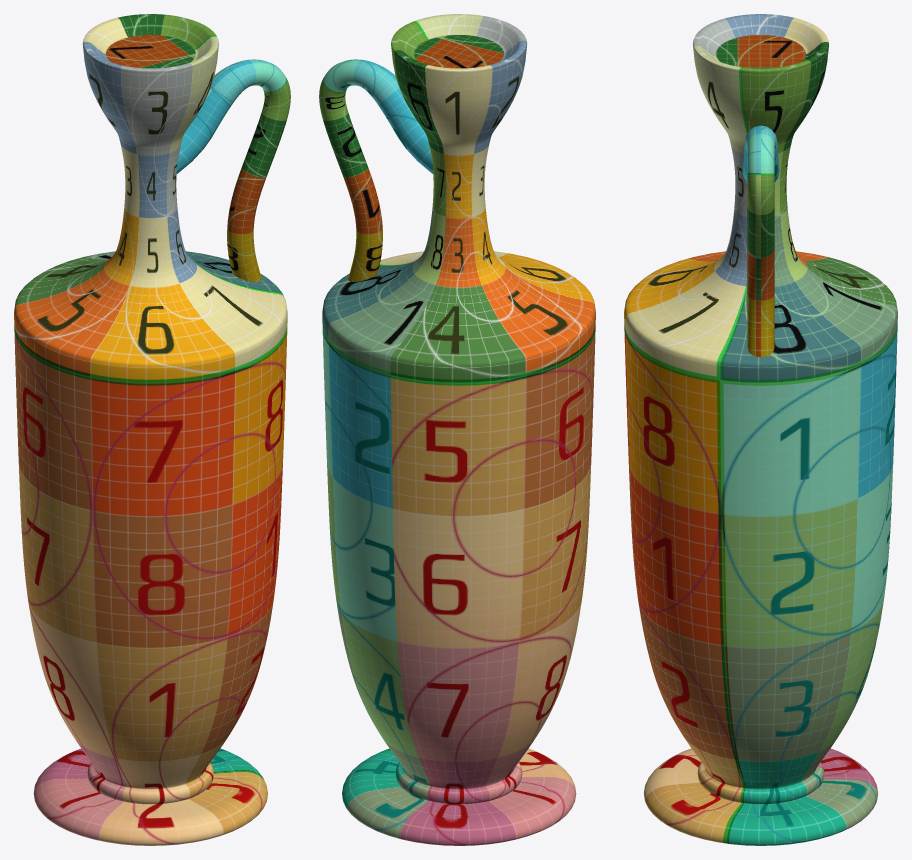
File: Lykithos_A.fbx
3 views of the same model, side by side, from view 1: azimuth 30°, elevation 25°; view 2: azimuth 150°, elevation 25°; view 3: azimuth 270°, elevation 25° (orthographic).
Parts seen in each view (by area): view 1: lykithosA_lykithos_A; view 2: lykithosA_lykithos_A; view 3: lykithosA_lykithos_A.
Boxes of the visible parts, x1=… form: lykithosA_lykithos_A: x1=14, y1=14, x2=290, y2=845; lykithosA_lykithos_A: x1=319, y1=14, x2=595, y2=845; lykithosA_lykithos_A: x1=624, y1=14, x2=897, y2=845.
Bounding box in the file's own units: 21.93 × 61.75 × 20.24.
1 material, 1 textured.
